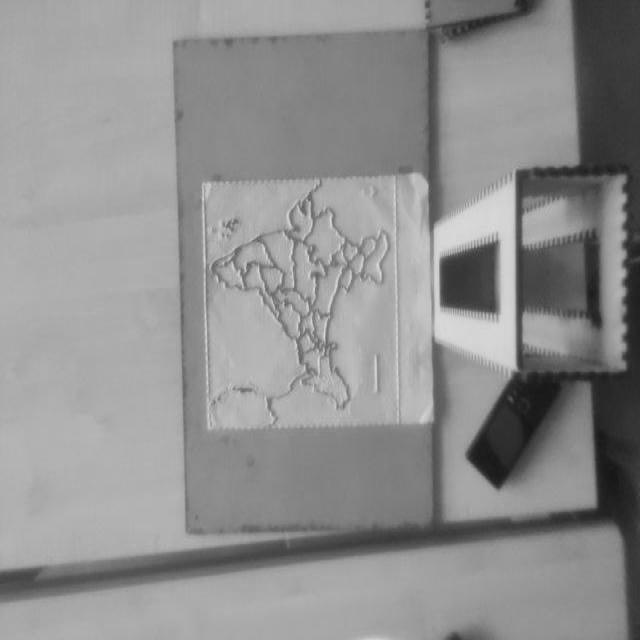map: (202, 176, 400, 429)
